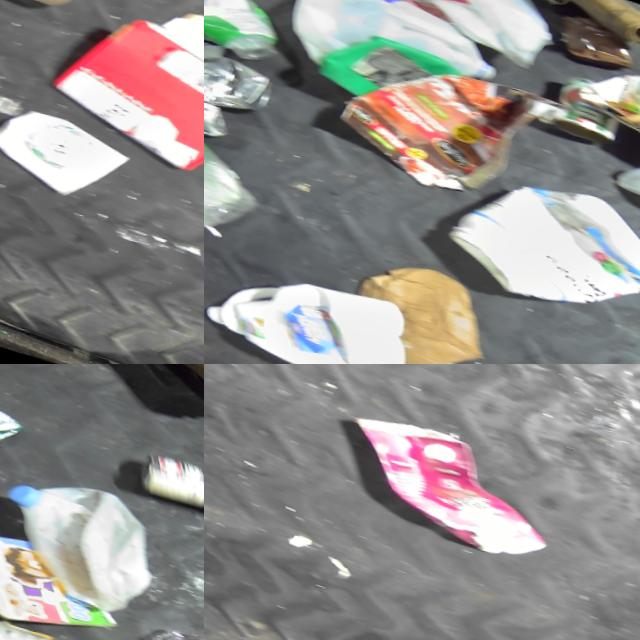can: (545, 65, 629, 143), (204, 39, 282, 121), (0, 385, 26, 461), (204, 89, 239, 143)
milk_jug: (273, 0, 512, 122), (0, 456, 173, 619), (204, 245, 421, 364), (383, 0, 573, 74), (599, 139, 640, 272)
non_white_jug: (330, 400, 570, 564)
